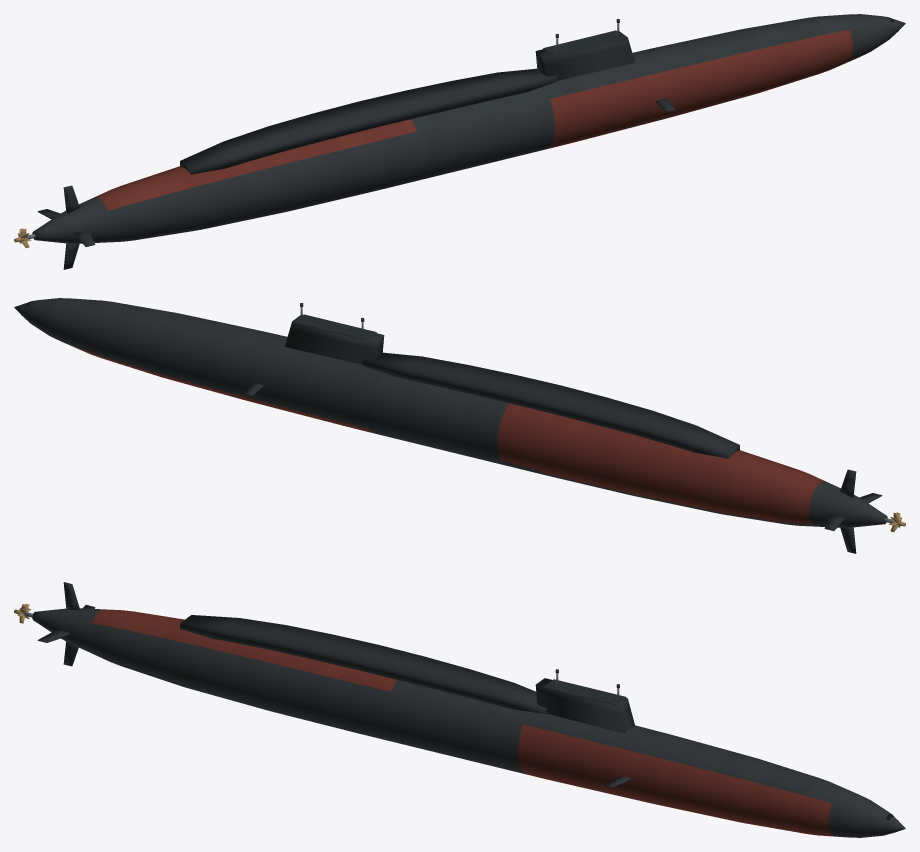
The model's file is RU_SSBN_DeltaIII.glb.
The picture shows the model from 3 angles, top to bottom: view 1: azimuth 30°, elevation 25°; view 2: azimuth 150°, elevation 25°; view 3: azimuth 330°, elevation 25°; orthographic projection.
Parts seen in each view (by area): view 1: RU_SSBN_DeltaIII_LOD0; view 2: RU_SSBN_DeltaIII_LOD0; view 3: RU_SSBN_DeltaIII_LOD0.
Part boxes in pixels (box(x1,y1,x2,y2)): RU_SSBN_DeltaIII_LOD0: box(14, 14, 905, 269); RU_SSBN_DeltaIII_LOD0: box(14, 298, 905, 553); RU_SSBN_DeltaIII_LOD0: box(14, 582, 905, 837).
Bounding box in the file's own units: 170 × 20.9 × 20.56.
6 materials, 1 textured.
